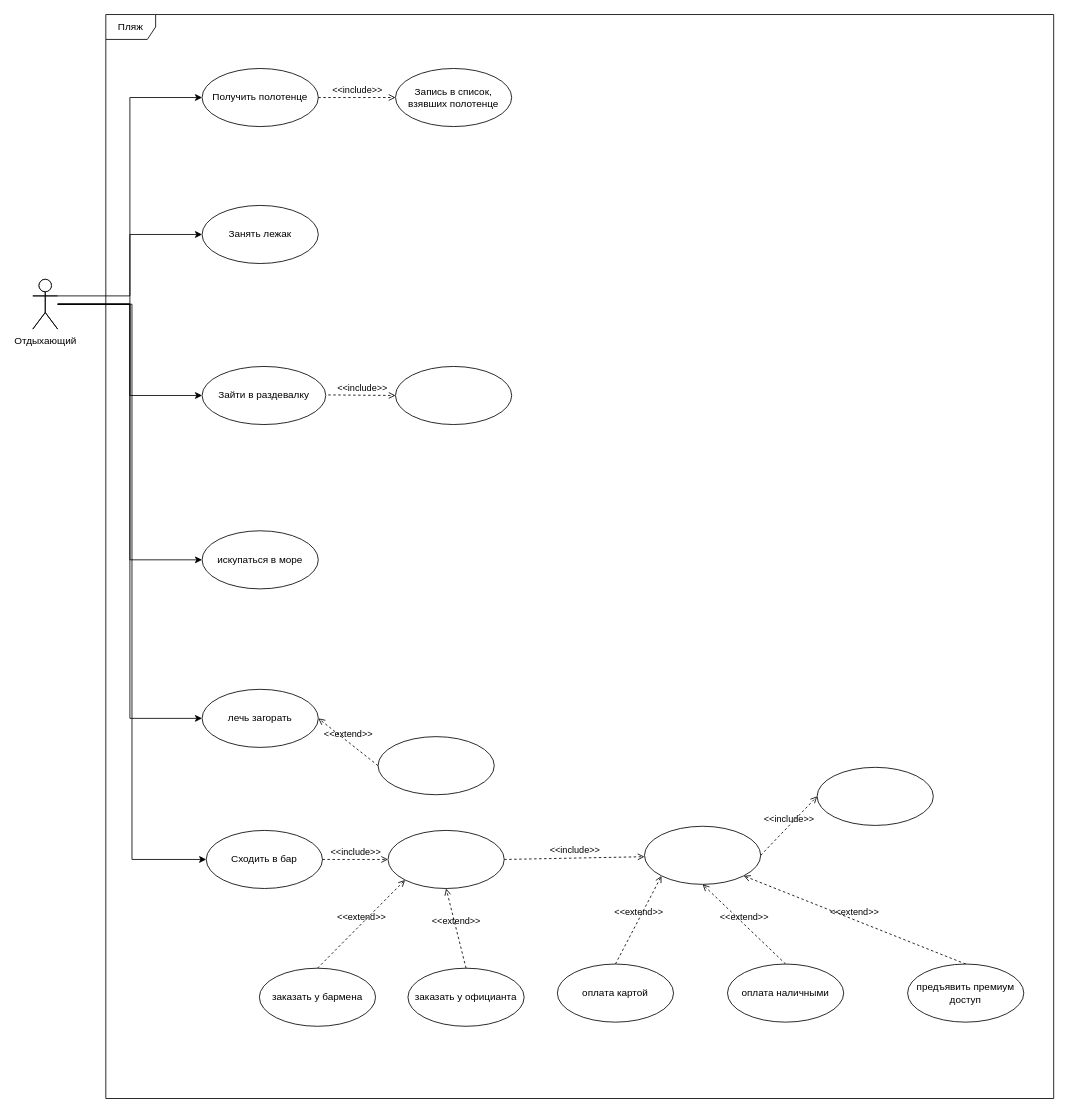
The diagram is 1068 pixels wide and 1113 high, and some of its shapes have lost their labels. The shapes that lost their labels are listed below. From the top down, each one's centre as x and y in pixels, then its label:
At [453,395]: "переодеться в плавательную одежду".
At [435,765]: "Намазаться защитным кремом".
At [874,796]: "получить заказ".
At [445,859]: "сделать заказ".
At [702,854]: "оплатить дорогой алкоголь".
